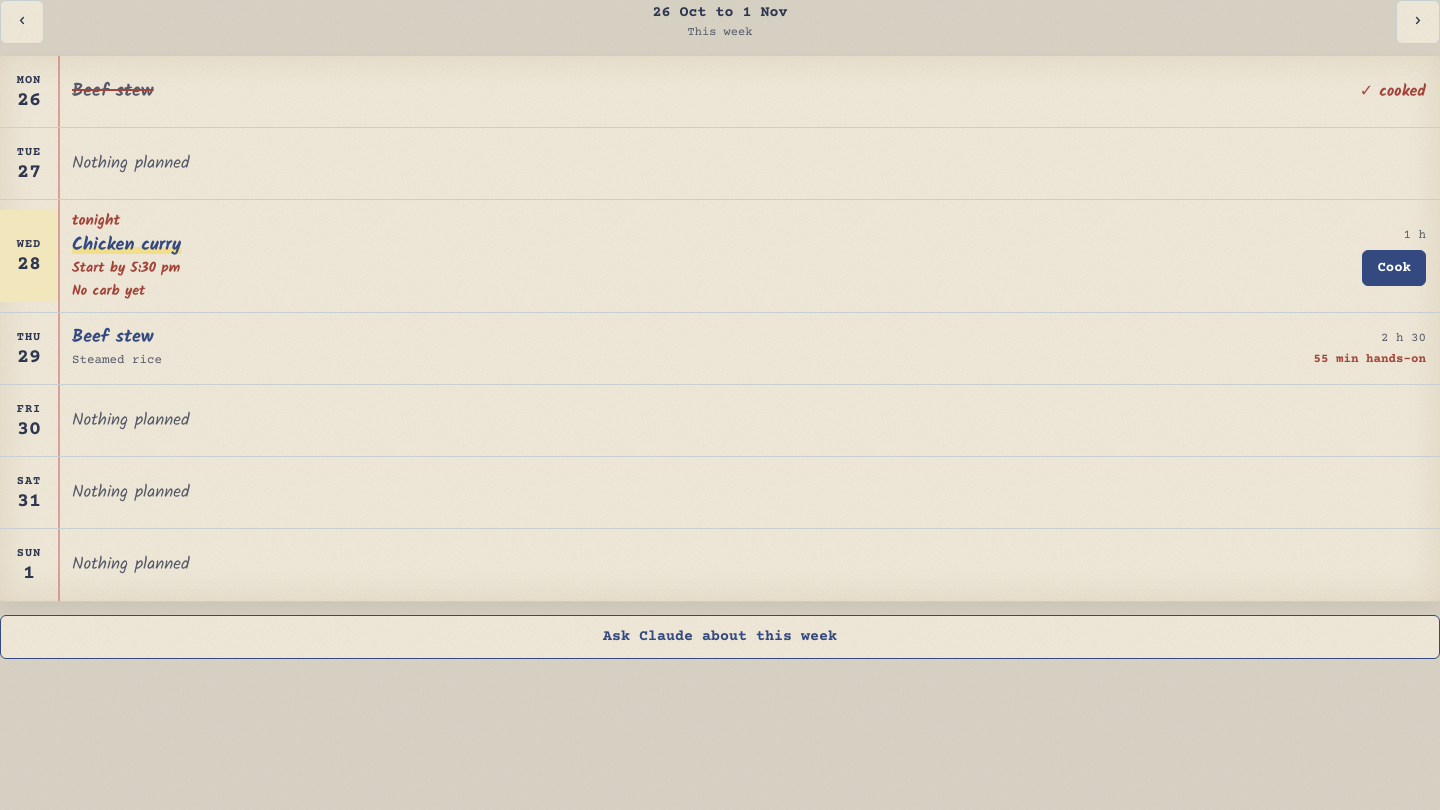
Test case: Night sheet › shows the night’s dishes, times and budget
Click the button "Thu 29" at (29, 349), box [0, 323, 58, 374]
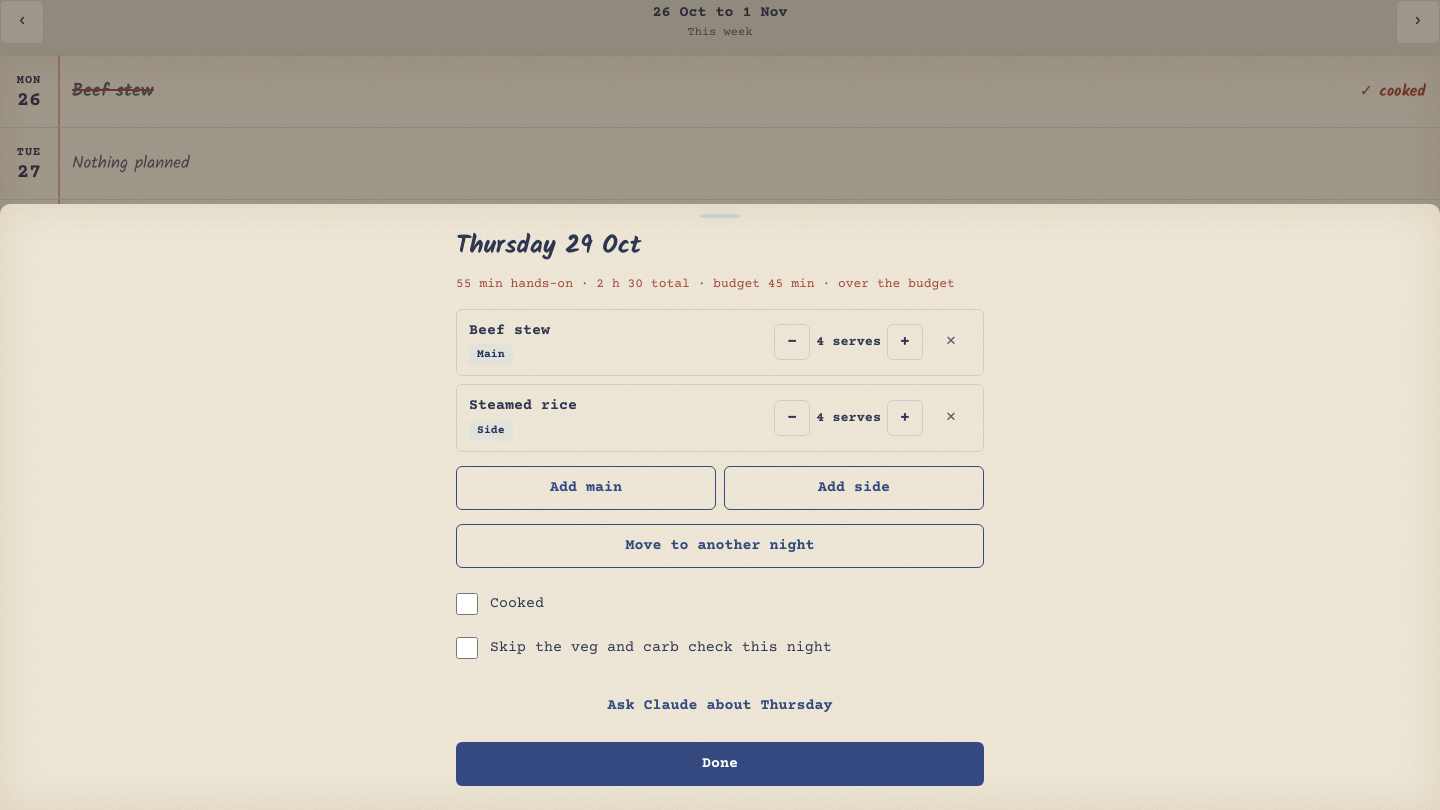
Now the dialog shows "55 min hands-on · 2 h 30 total · budget 45 min · over the budget"
Now the text "Beef stew" is shown, box [469, 320, 550, 342]
Now the text "4 serves" is shown 2 times, box [816, 332, 881, 353]; [816, 408, 881, 428]
